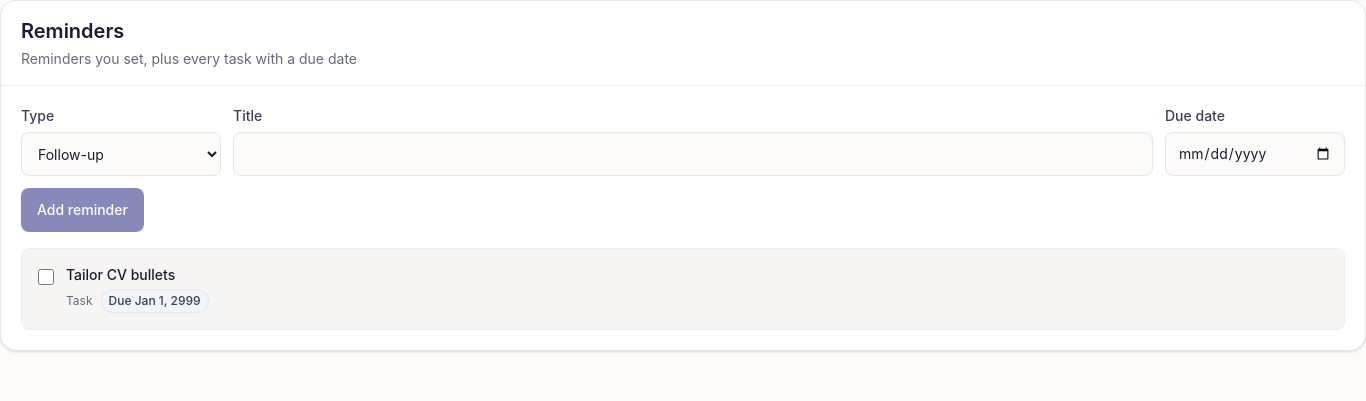
Scenario: JobDetailRemindersPanel › completes a task reminder by updating the task
The image size is (1366, 401).
Click the checkbox named "Complete Tailor CV bullets" at coordinates (46, 277), box x1=38 y1=269 x2=54 y2=285
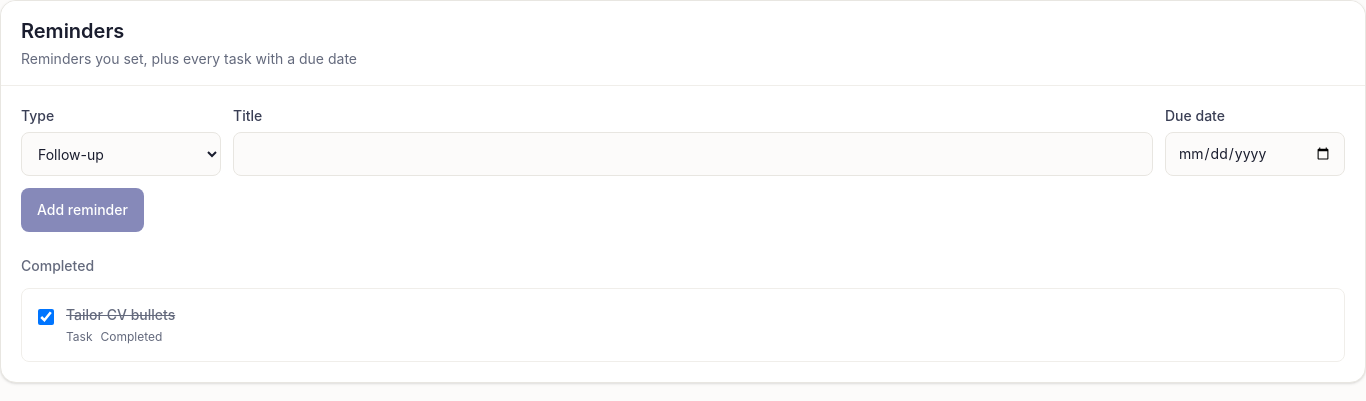
Expected: the text "Tailor CV bullets" is shown, x1=66 y1=306 x2=175 y2=323
Expected: the checkbox named "Complete Tailor CV bullets" is checked, x1=38 y1=309 x2=54 y2=325
